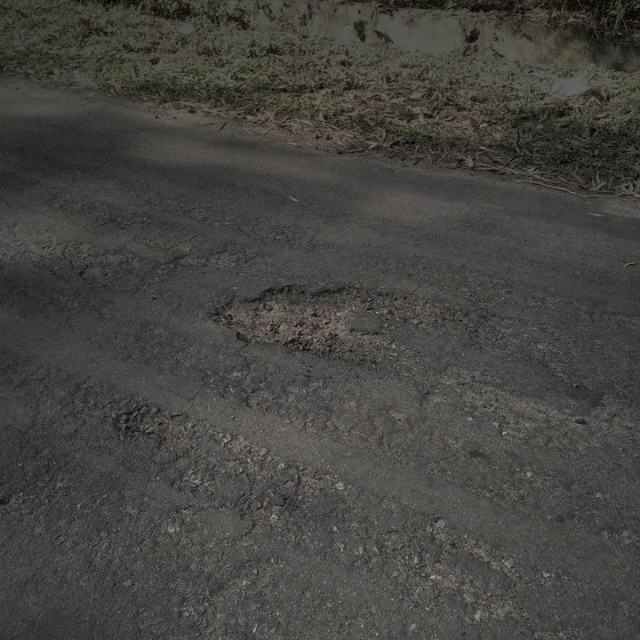pothole: (206, 279, 468, 365), (110, 402, 188, 450)
